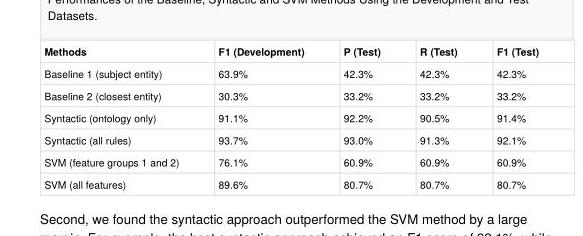table: (43, 43, 538, 190)
table column: (43, 43, 197, 190), (197, 43, 323, 190), (399, 43, 476, 190), (323, 43, 399, 190), (476, 43, 538, 190)
table row: (43, 127, 538, 150), (43, 61, 538, 83), (43, 83, 538, 105), (43, 105, 538, 127), (43, 150, 538, 172), (43, 43, 538, 61), (43, 172, 538, 190)
